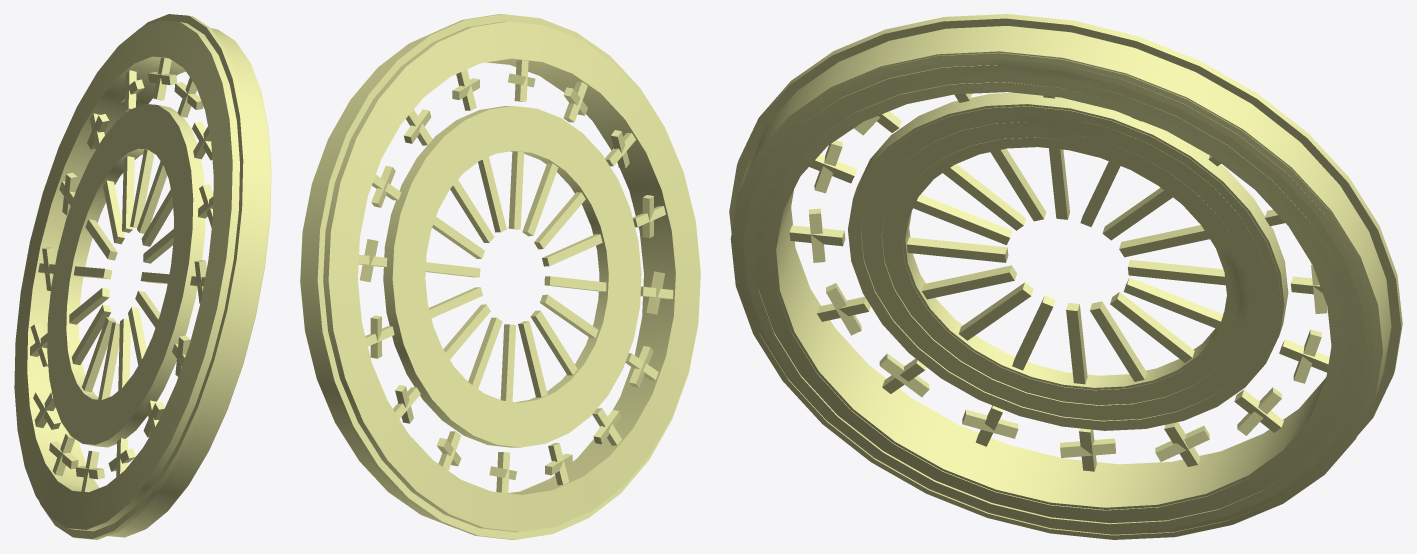
File: Sun.fbx
3 renders of one model, left to right at view 1: azimuth 30°, elevation 25°; view 2: azimuth 150°, elevation 25°; view 3: azimuth 270°, elevation 25°, orthographic. The views are drawn at different scales.
Parts seen in each view (by area): view 1: Sun; view 2: Sun; view 3: Sun.
Boxes of the visible parts, x1,y1,x2,y2 form: Sun: (14, 14, 271, 539); Sun: (300, 14, 700, 539); Sun: (729, 14, 1402, 539).
Size of the model in its own units: 9.53 by 19.82 by 20.42.
